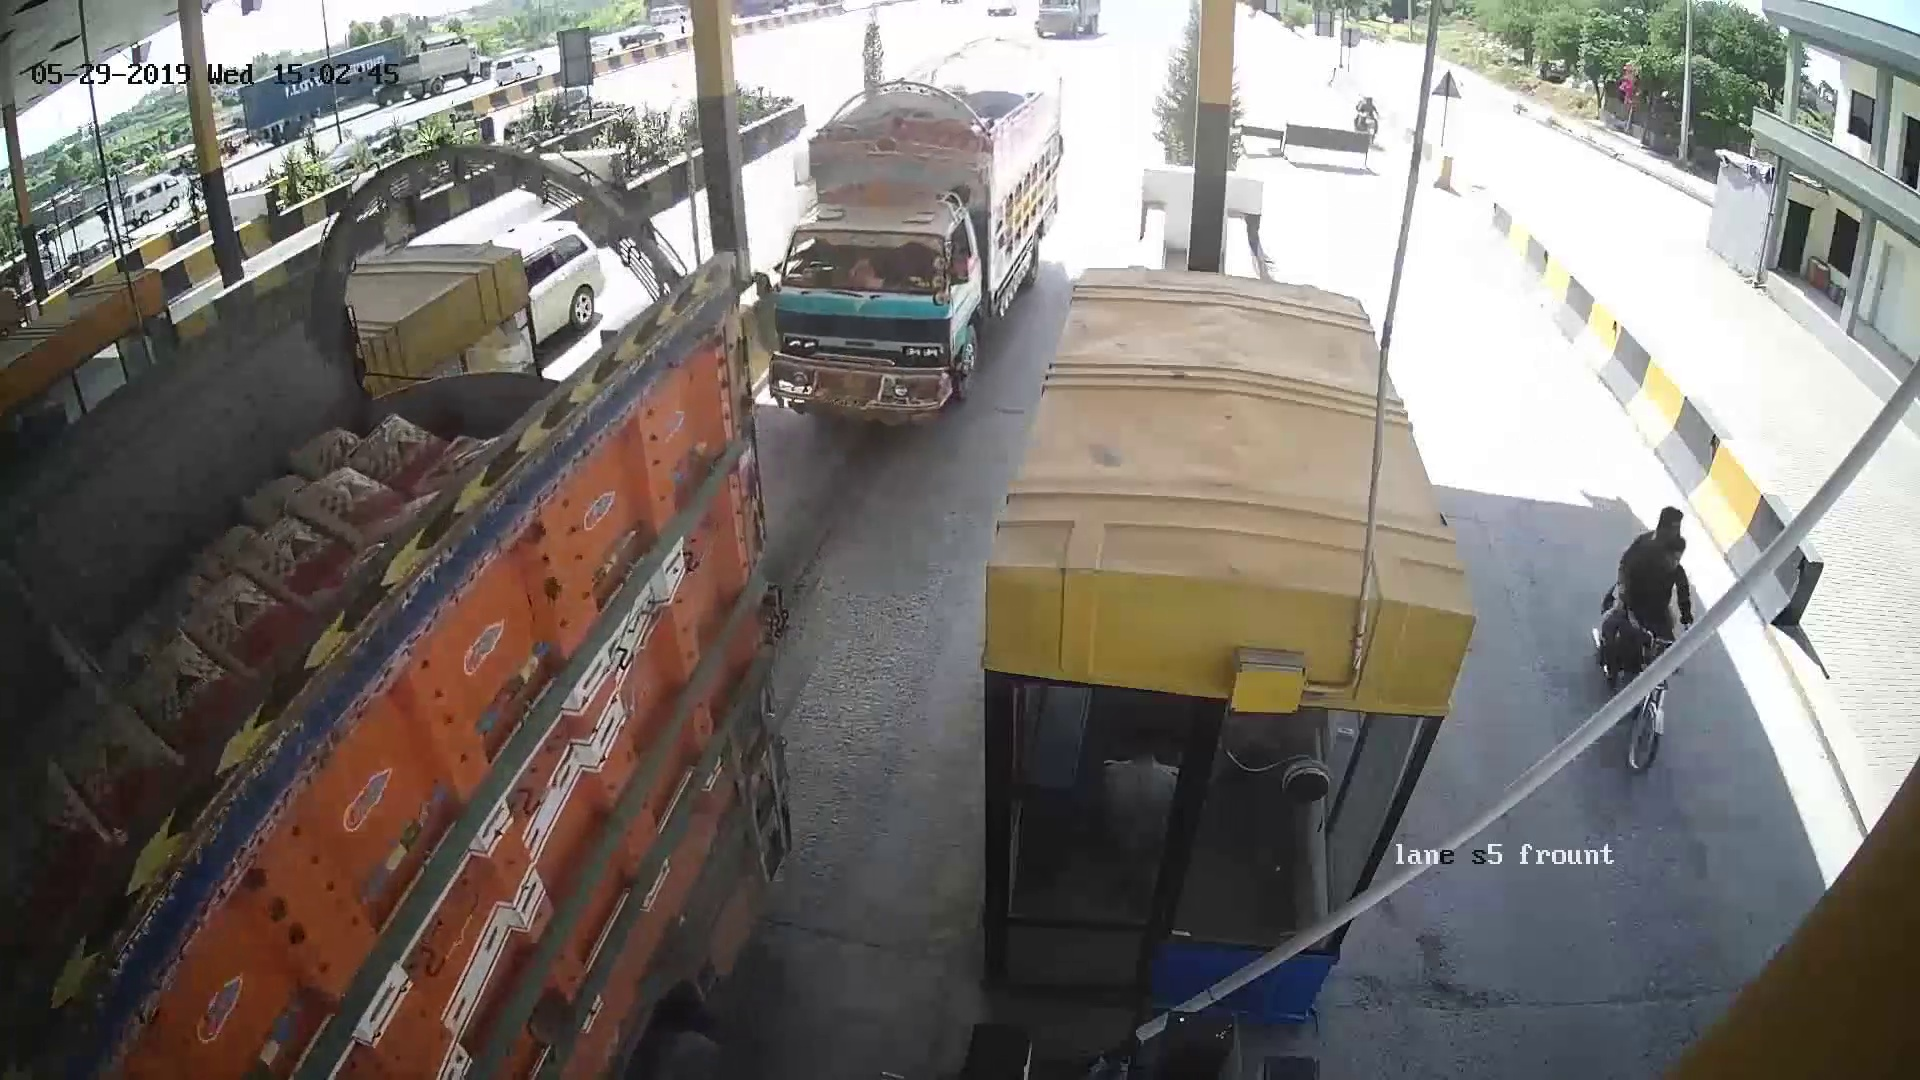truck: (113, 425, 785, 1025), (800, 96, 1022, 396)
